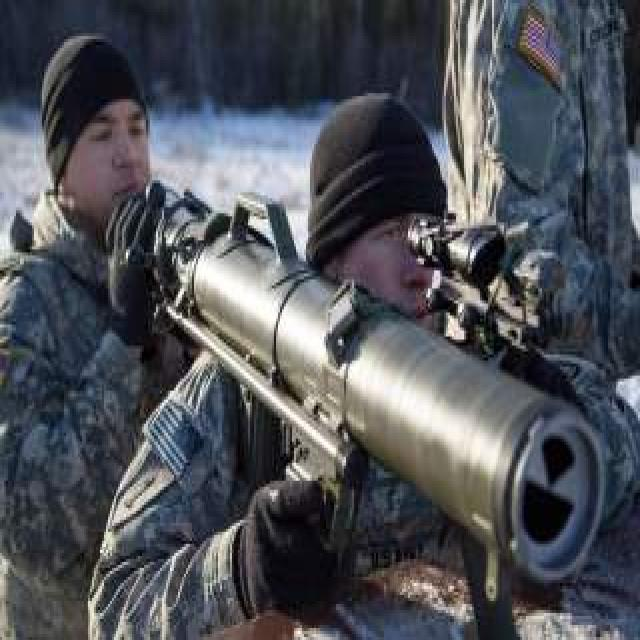bazooka: (73, 125, 627, 640)
